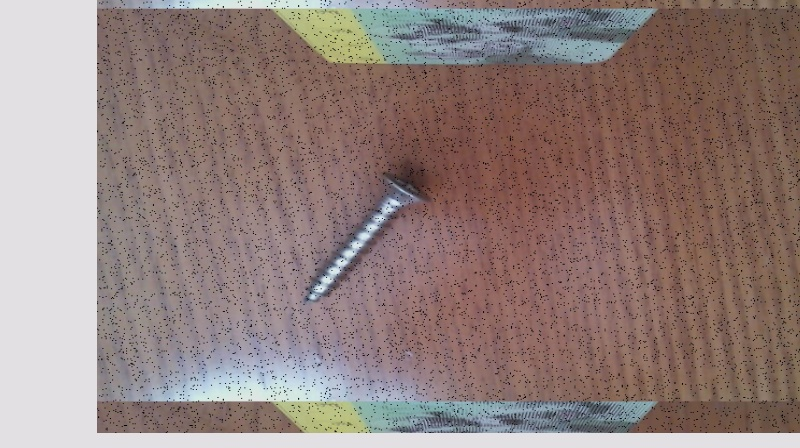S001: (298, 167, 435, 306)
